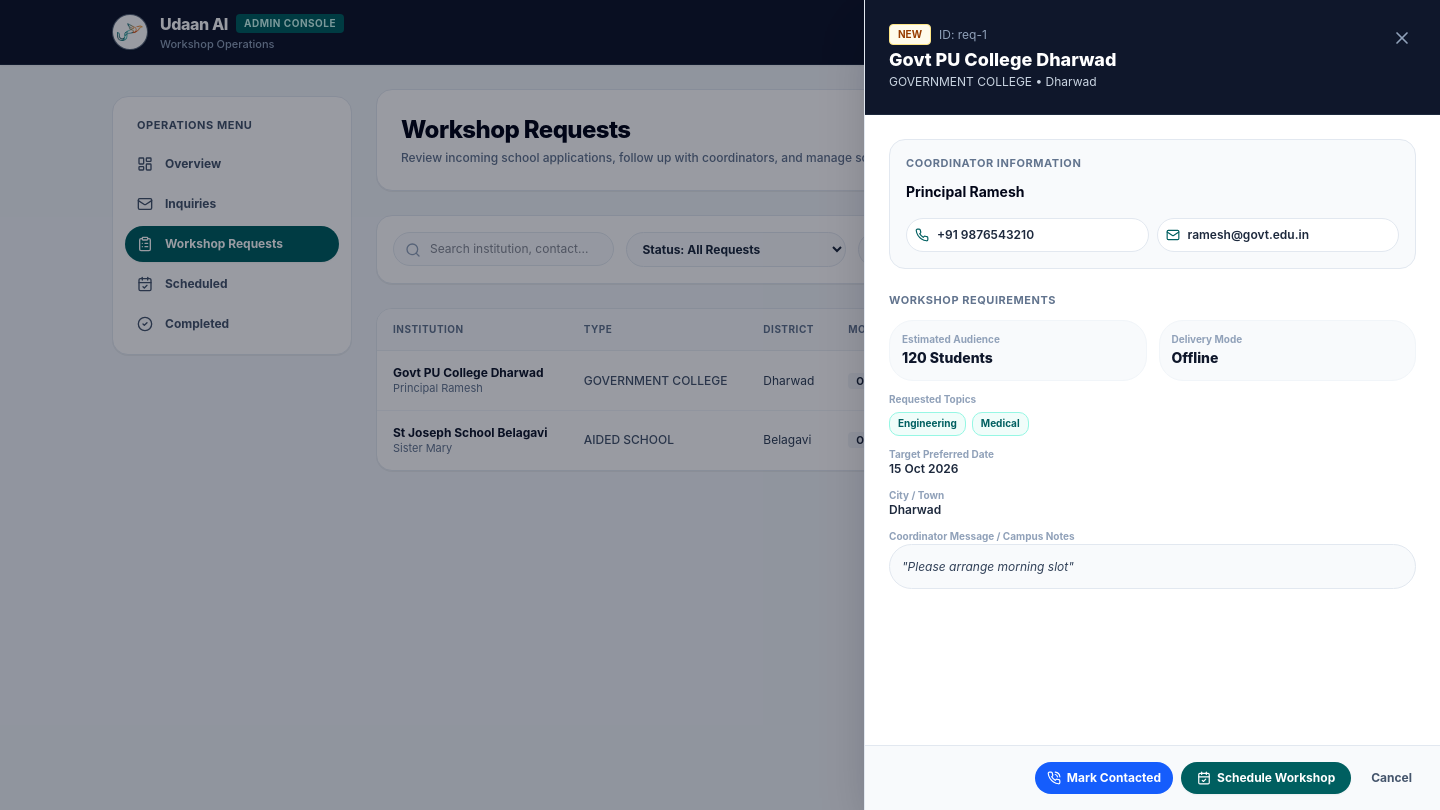
AdminRequestsPage › ?open=<id> query resolution & drawer dismissal handling › resolves ?open=<id> through handleOpenDrawer and initializes scheduling fields
This screenshot has width=1440, height=810.
Expected: the text "Coordinator Information" is shown, [906,156,1081,170]
Expected: the text "Principal Ramesh" in the row of "1 Sept 2026" is shown, [393,381,483,395]
Note: Open schedule modal
Click the button "Schedule Workshop" at (1266, 778), box [1181,762,1351,794]
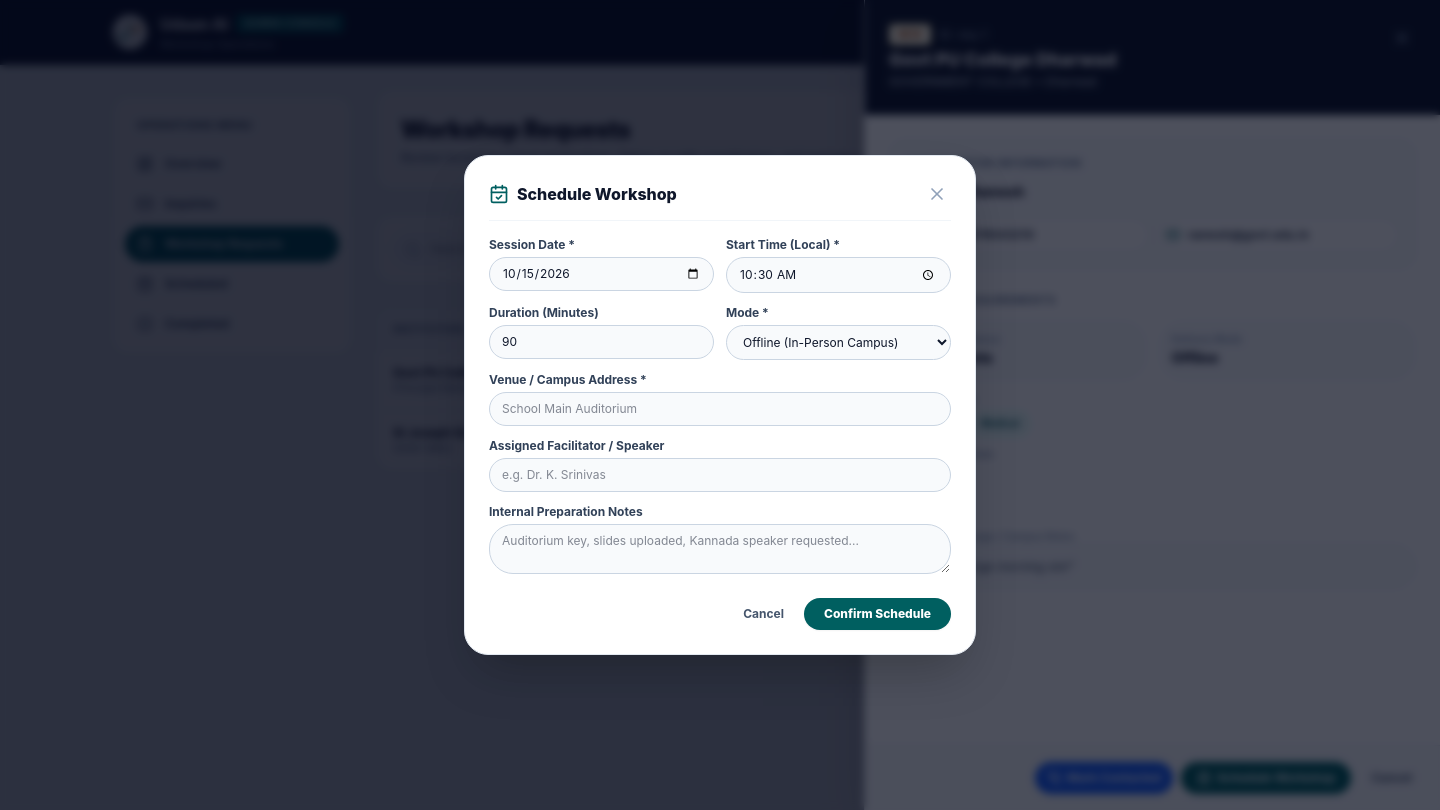
Expected: the date field labelled "Session Date *" holds "2026-10-15", [489,257,714,291]
Expected: the dropdown labelled "Mode *" shows "Offline (In-Person Campus)", [726,325,951,360]
